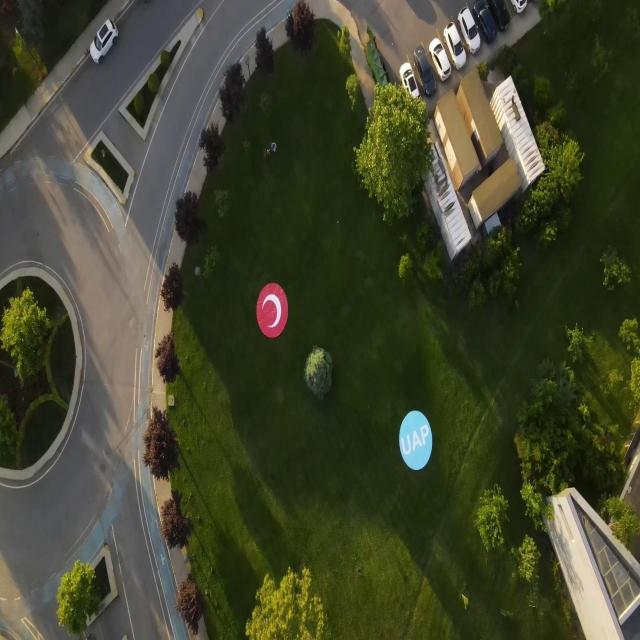p3rson: (514, 299, 520, 311), (272, 142, 276, 154)
